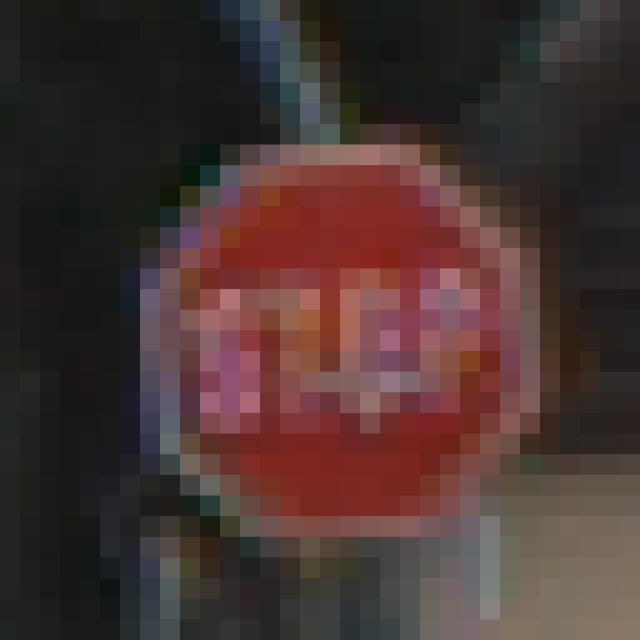STOP: (121, 125, 541, 538)
